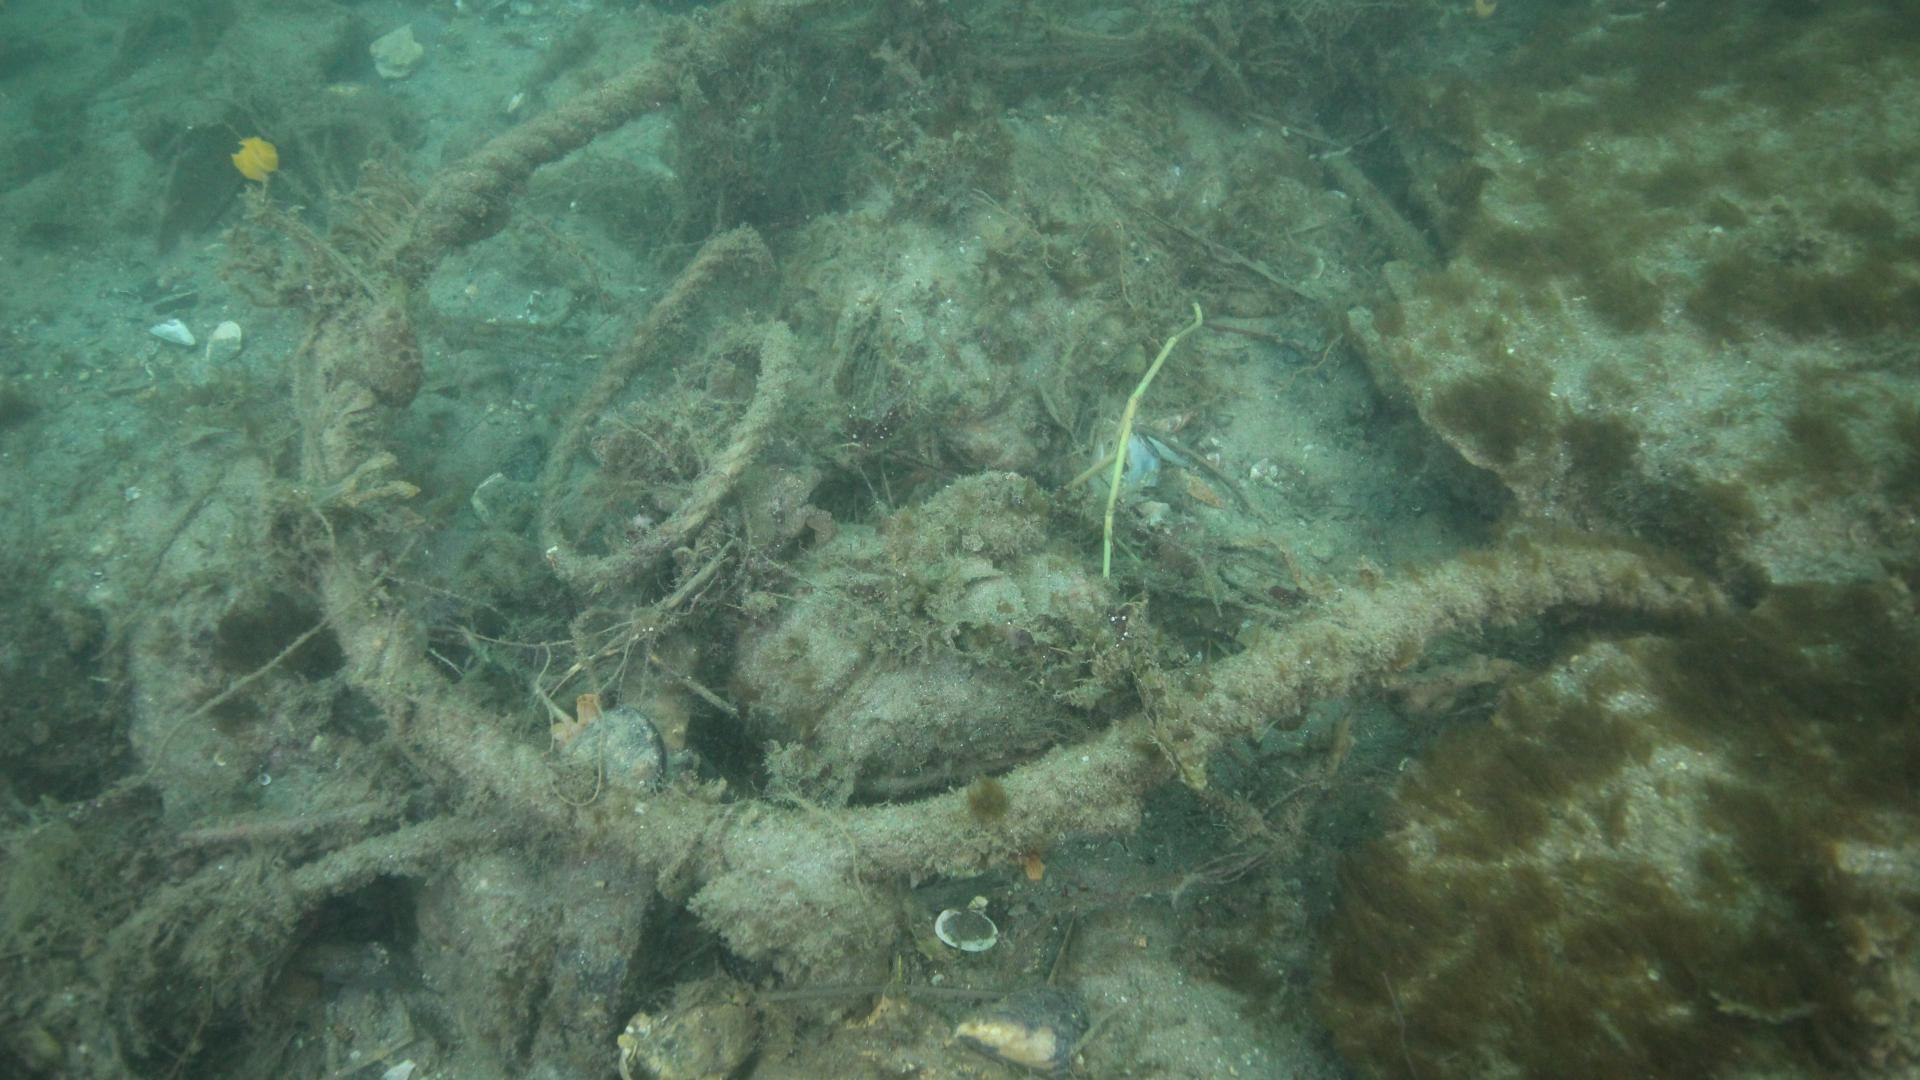rope: (310, 57, 1735, 890), (535, 220, 798, 596)
